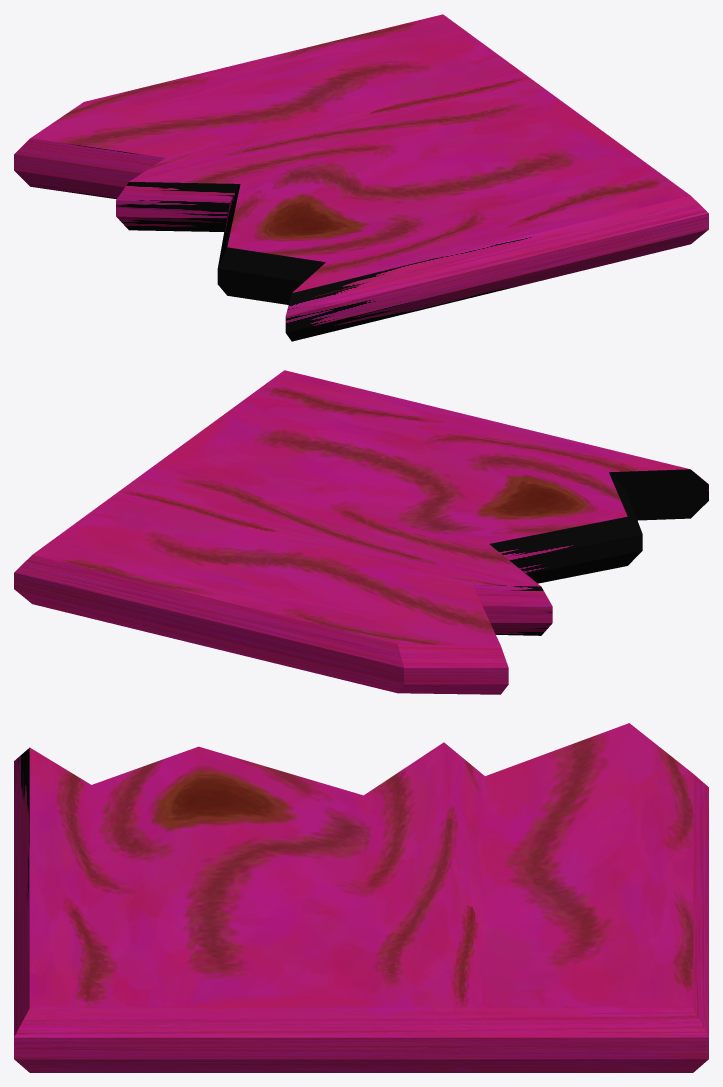
File: Tablas1.fbx
3 renders of one model, top to bottom at view 1: azimuth 30°, elevation 25°; view 2: azimuth 150°, elevation 25°; view 3: azimuth 270°, elevation 25°, orthographic. The views are drawn at different scales.
Parts seen in each view (by area): view 1: Cube.002; view 2: Cube.002; view 3: Cube.002.
Boxes of the visible parts, box(x1,y1,x2,y2) form: Cube.002: box(14, 14, 708, 341); Cube.002: box(14, 370, 708, 694); Cube.002: box(14, 723, 708, 1072).
Bounding box in the file's own units: 293 × 29.48 × 286.
Materials: 1 (1 with a texture image).
